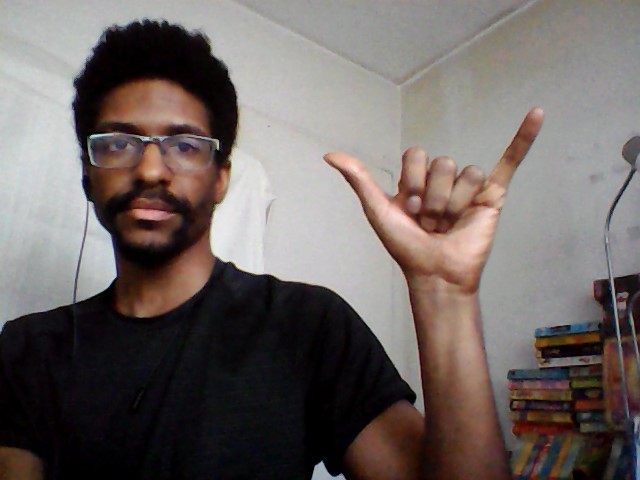y: (320, 103, 547, 298)
